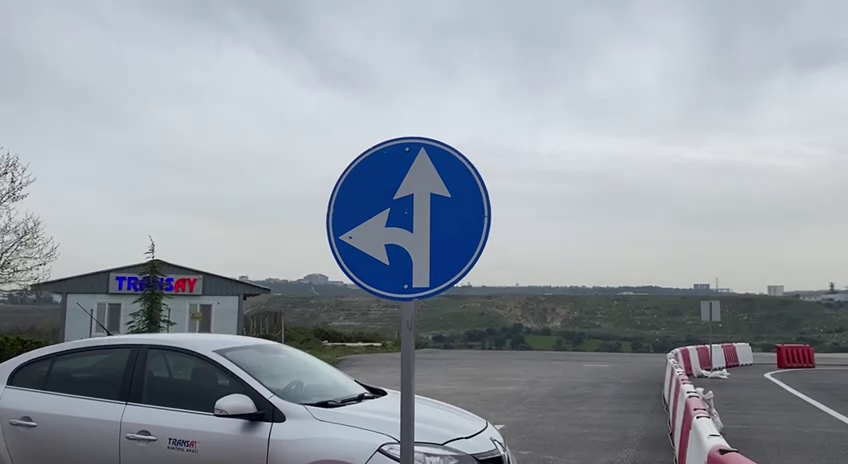forwardAndLeft: (324, 133, 493, 303)
